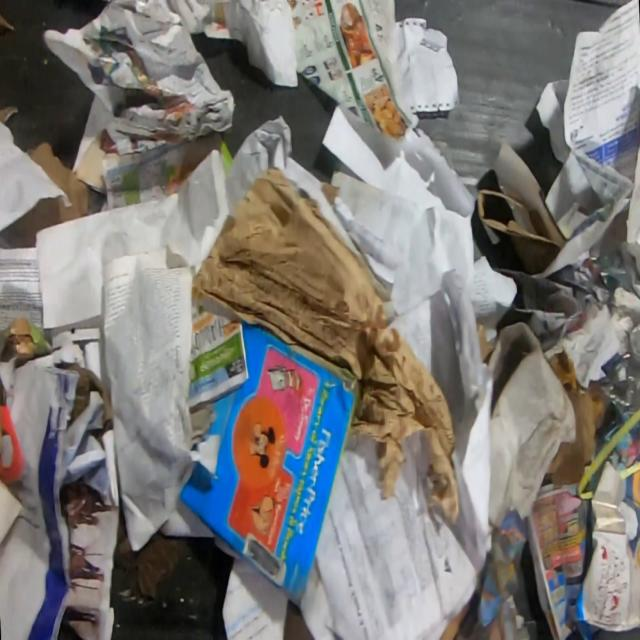cardboard: (476, 140, 569, 275), (0, 141, 107, 247)
rigid_plastic: (600, 352, 640, 422)
